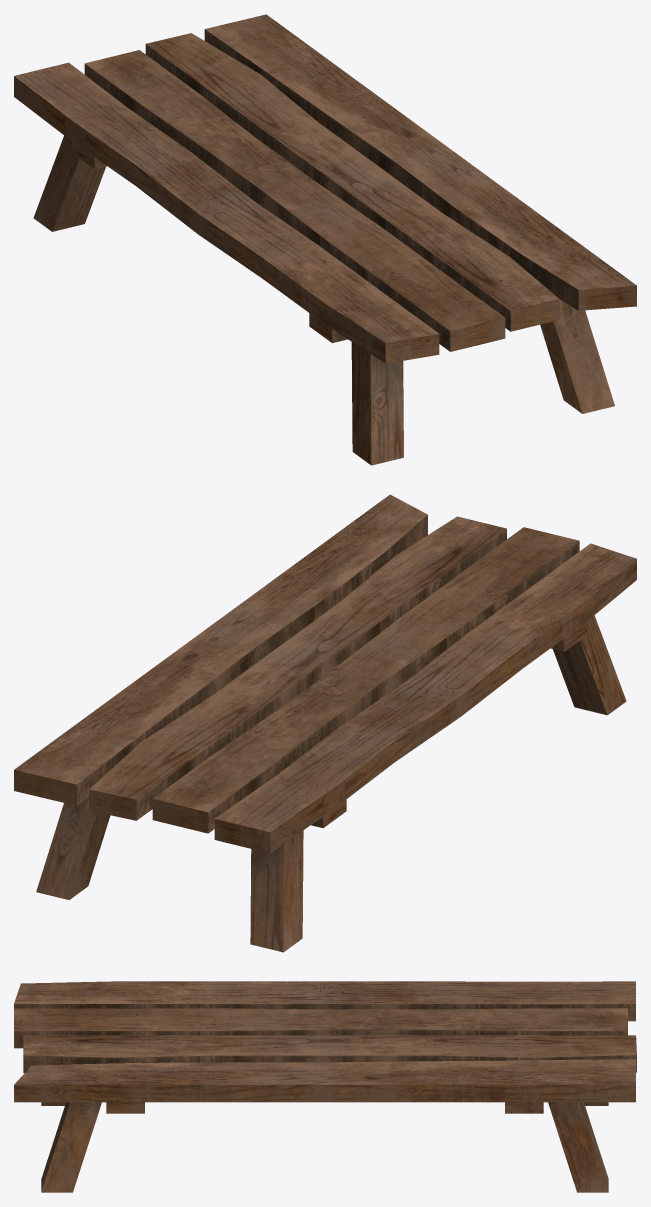
The model's file is eat_table.fbx.
3 views of the same model, one above another, from view 1: azimuth 30°, elevation 25°; view 2: azimuth 150°, elevation 25°; view 3: azimuth 270°, elevation 25° (orthographic). The views are drawn at different scales.
Parts seen in each view (by area): view 1: eat_table; view 2: eat_table; view 3: eat_table.
Part boxes in pixels (bbox=[...]): eat_table: bbox=[14, 14, 636, 465]; eat_table: bbox=[14, 494, 636, 952]; eat_table: bbox=[14, 981, 636, 1192].
Size of the model in its own units: 299 by 148 by 755.
